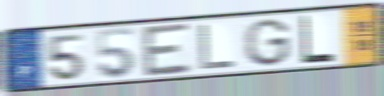5: (95, 25, 138, 81), (46, 32, 88, 82)
E: (140, 20, 194, 79)
G: (242, 17, 292, 68)
L: (197, 23, 237, 72), (300, 13, 336, 65)
